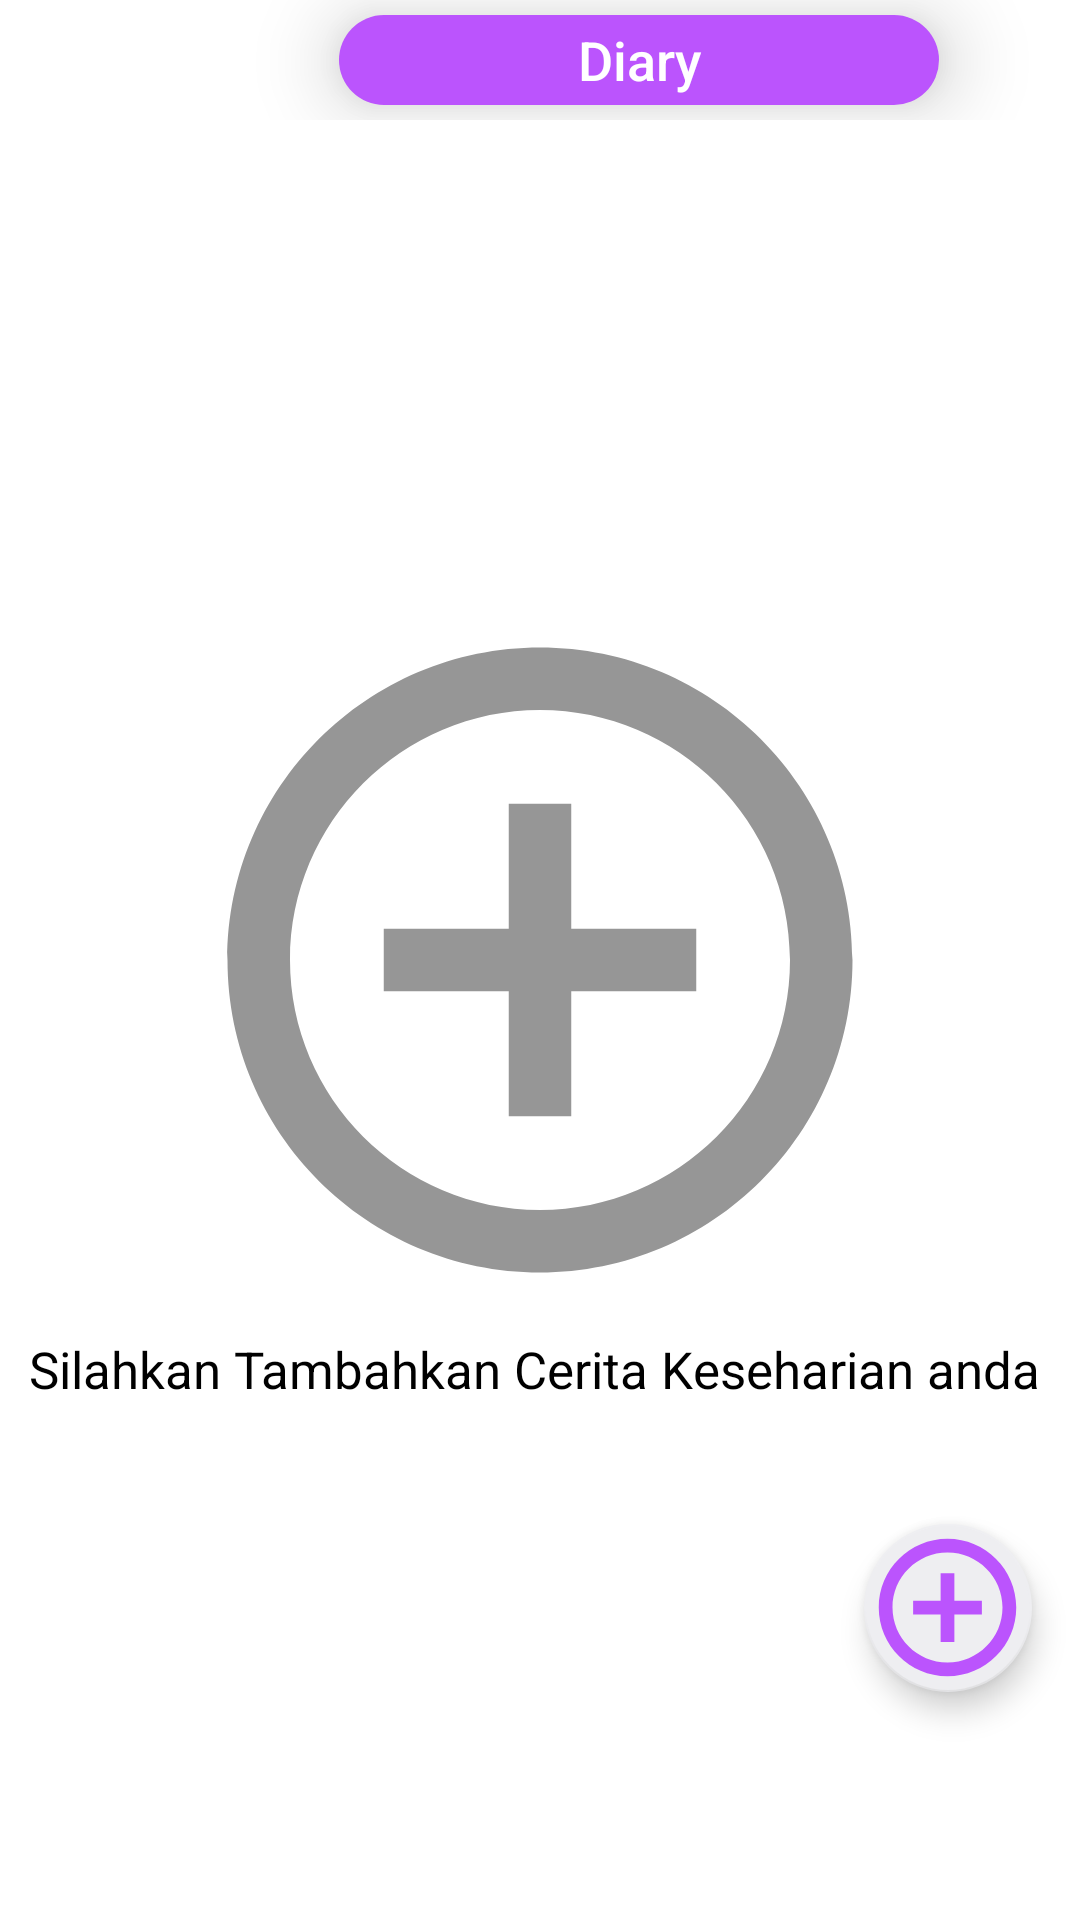

Locate icon controls on the screen. Image size 1080 x 1920, boxes as box(x1, y1, x2, y2).
Tambahkan diary baru: box(864, 1524, 1032, 1692)
